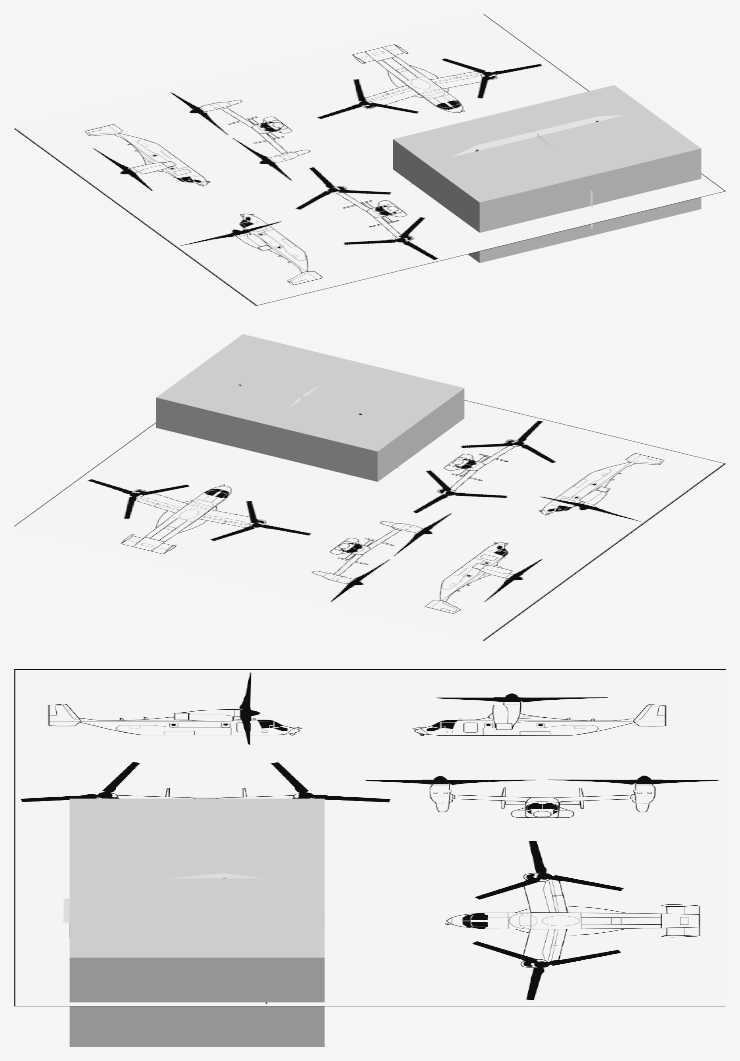
3 views of the same model, one above another, from view 1: azimuth 30°, elevation 25°; view 2: azimuth 150°, elevation 25°; view 3: azimuth 270°, elevation 25° (orthographic). The views are drawn at different scales.
Parts seen in each view (by area): view 1: Empty.001, Cube, Empty.003; view 2: Empty.001, Cube, Empty.003; view 3: Empty.001, Cube.
Boxes of the visible parts, left/top/right/bottom form: Empty.001: left=14, top=14, right=725, bottom=305; Cube: left=393, top=85, right=701, bottom=262; Empty.003: left=451, top=115, right=623, bottom=157; Empty.001: left=14, top=400, right=725, bottom=640; Cube: left=156, top=334, right=464, bottom=481; Empty.003: left=213, top=378, right=385, bottom=420; Empty.001: left=14, top=669, right=725, bottom=1006; Cube: left=69, top=798, right=324, bottom=1046.
Size of the model in its own units: 54.67 by 8.12 by 48.77.
1 material, 1 textured.
